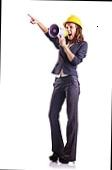helmet: (63, 14, 84, 27)
no_wear: (54, 37, 84, 73)
